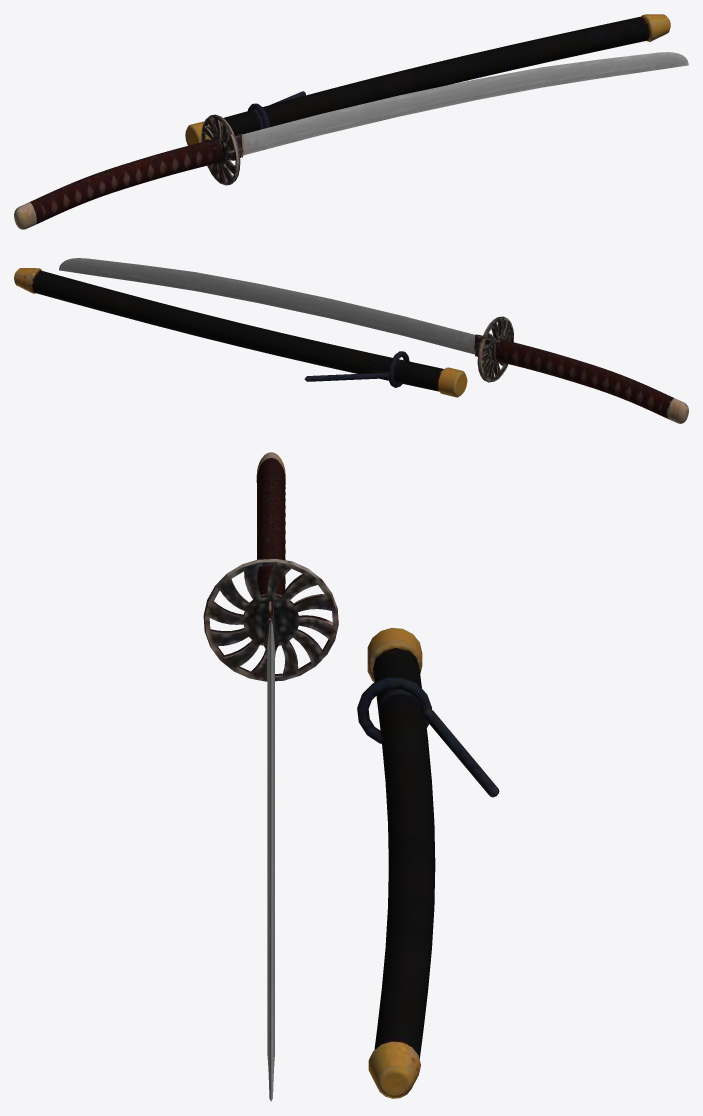
Rendered from katana.glb.
3 renders of one model, top to bottom at view 1: azimuth 30°, elevation 25°; view 2: azimuth 150°, elevation 25°; view 3: azimuth 270°, elevation 25°, orthographic. The views are drawn at different scales.
Visible parts, largest first — view 1: katana; view 2: katana; view 3: katana.
Boxes of the visible parts, bbox=[...] form: katana: bbox=[14, 14, 688, 229]; katana: bbox=[14, 258, 688, 423]; katana: bbox=[203, 452, 499, 1101].
Size of the model in its own units: 1.02 by 0.0931 by 0.2037.
Materials: 1 (1 with a texture image).
